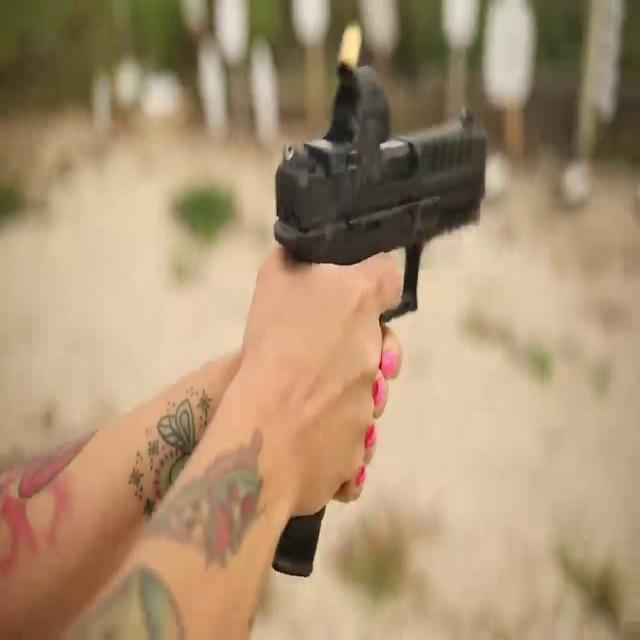Handgun: (233, 82, 504, 596)
